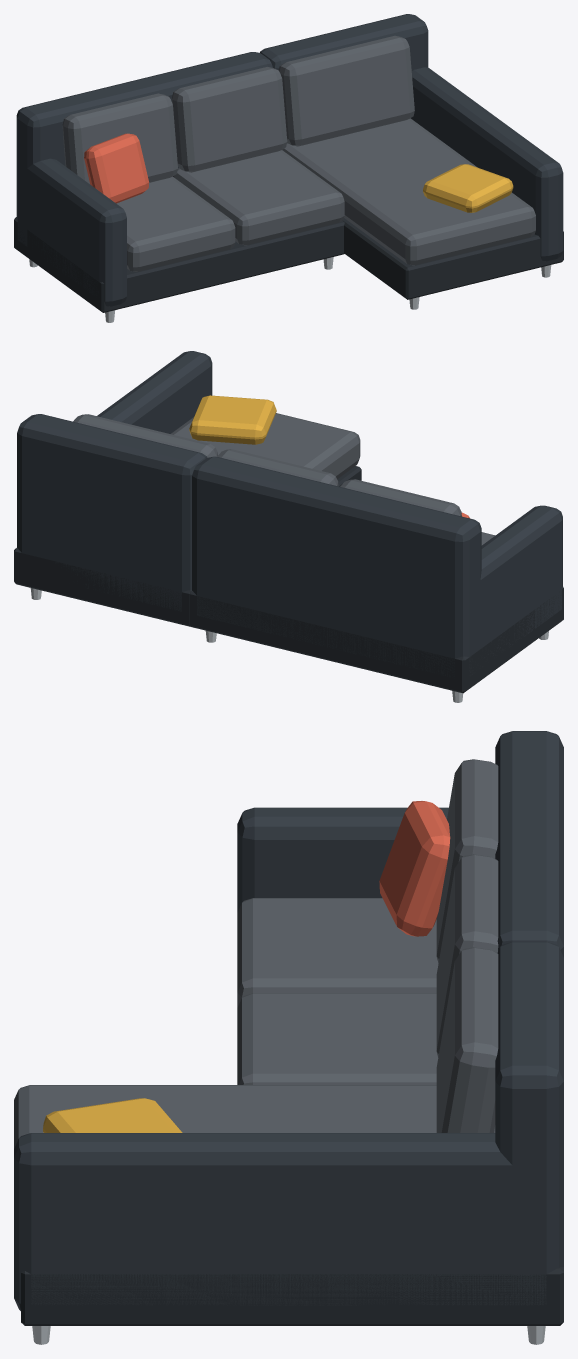
File: design_sofa.glb
3 renders of one model, top to bottom at view 1: azimuth 30°, elevation 25°; view 2: azimuth 150°, elevation 25°; view 3: azimuth 270°, elevation 25°, orthographic. The views are drawn at different scales.
Parts seen in each view (by area): view 1: design_sofa_Body; view 2: design_sofa_Body; view 3: design_sofa_Body.
Boxes of the visible parts, x1=… form: design_sofa_Body: x1=14, y1=14, x2=563, y2=322; design_sofa_Body: x1=14, y1=351, x2=563, y2=702; design_sofa_Body: x1=14, y1=731, x2=563, y2=1344.
Bounding box in the file's own units: 2.4 × 0.9 × 1.6.
